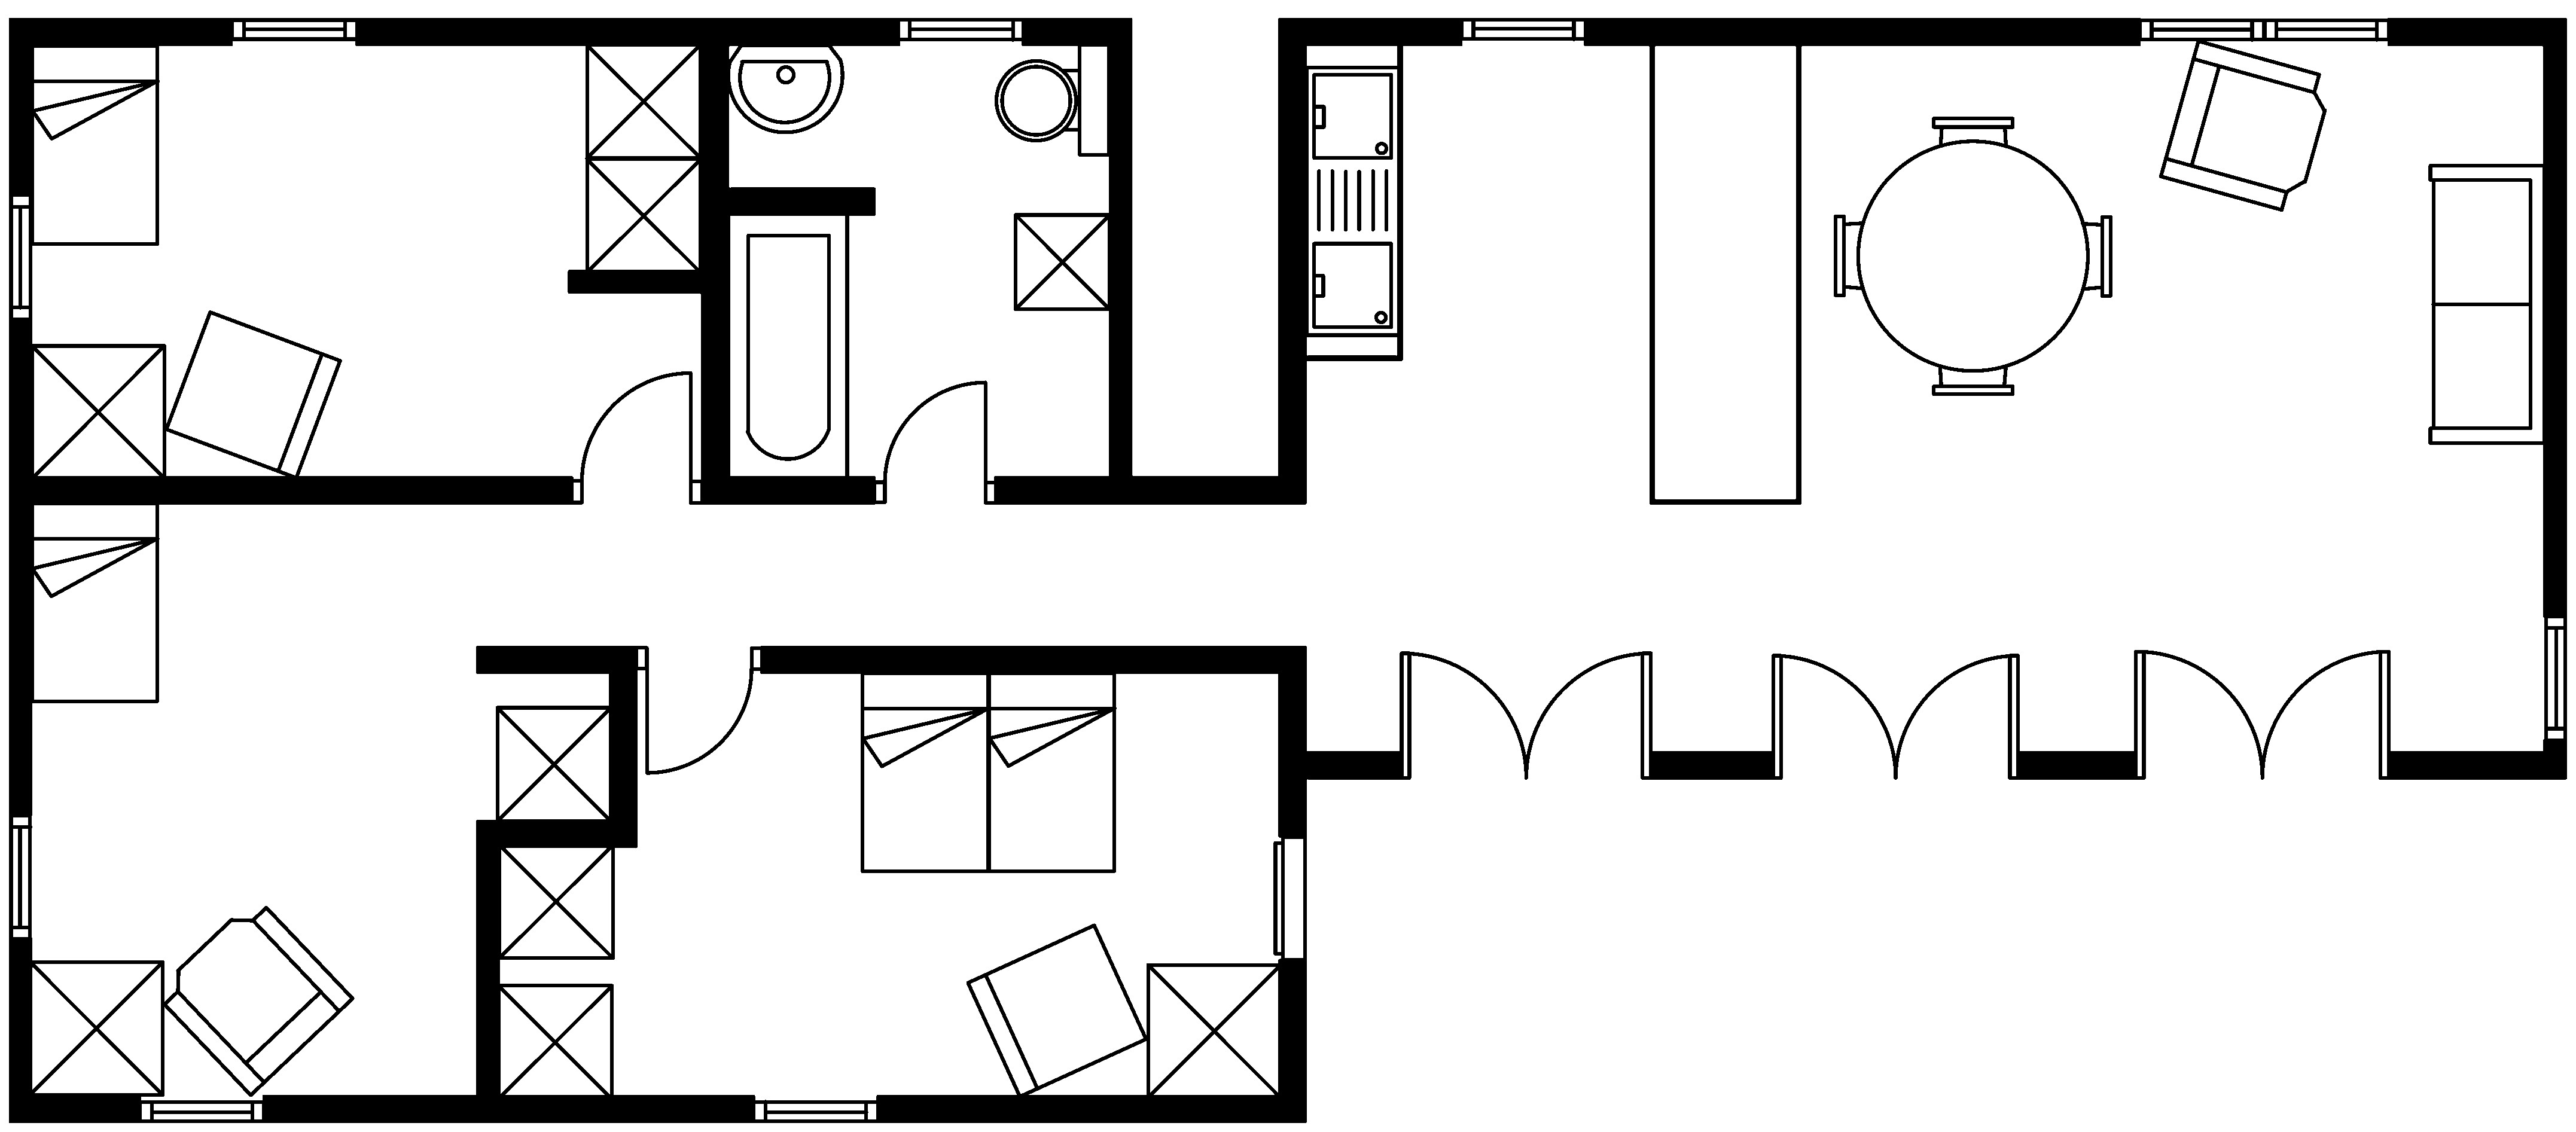armchair: (161, 905, 355, 1097), (2159, 38, 2328, 212)
bed: (28, 501, 159, 703), (859, 670, 991, 872), (986, 670, 1117, 872), (30, 43, 159, 246)
coffee_table: (26, 959, 164, 1097), (1145, 963, 1283, 1099), (30, 343, 166, 480), (494, 982, 614, 1101), (583, 41, 702, 161), (494, 705, 613, 823), (496, 841, 614, 959), (585, 156, 702, 274), (1012, 212, 1112, 311)
large_sink: (994, 41, 1111, 156)
large_sofa: (2428, 163, 2546, 445)
round_table: (1832, 115, 2113, 396)
small_sink: (726, 43, 843, 133)
small_sofa: (966, 923, 1148, 1099), (163, 309, 342, 480)
tub: (726, 210, 849, 483)
twin_sink: (1304, 64, 1401, 337)
